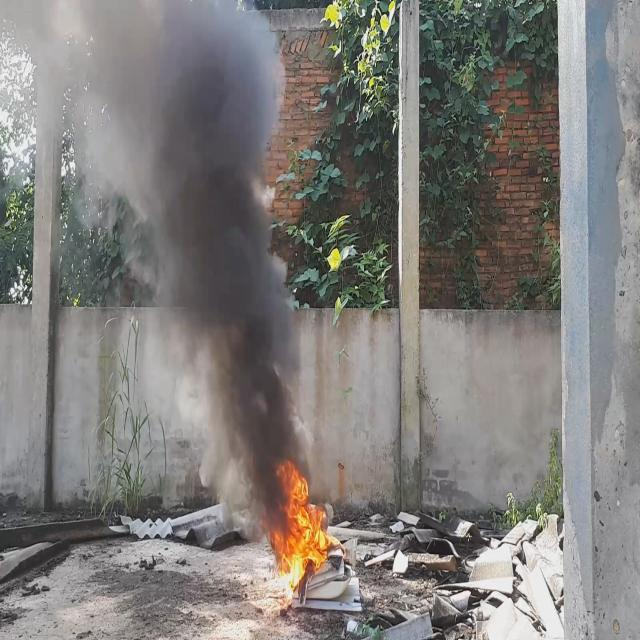Fire: (268, 460, 334, 591)
Smoke: (0, 0, 309, 540)
